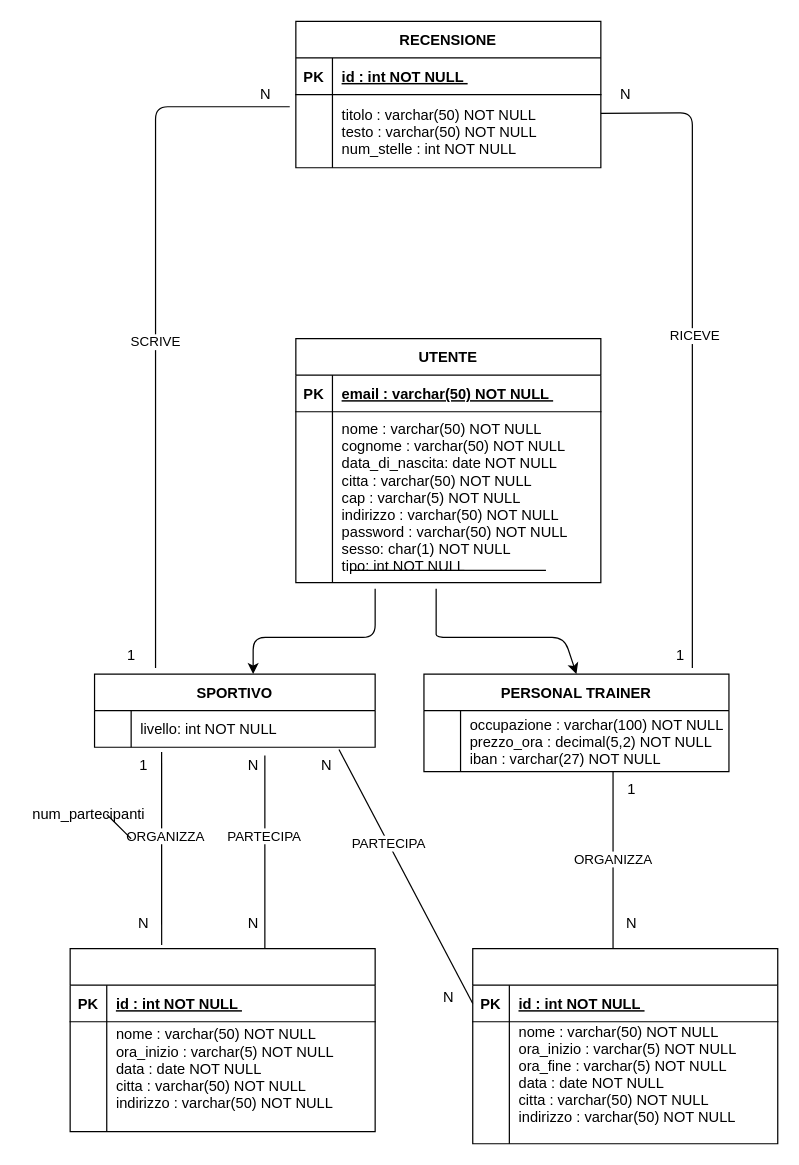
Image size: 799x1165. Some labels were removed from this diagram. Each missing label, with the box of its shape:
ATTIVITA_HOST: (69, 947, 375, 1132)
ATTIVITA_PT: (472, 947, 778, 1144)
